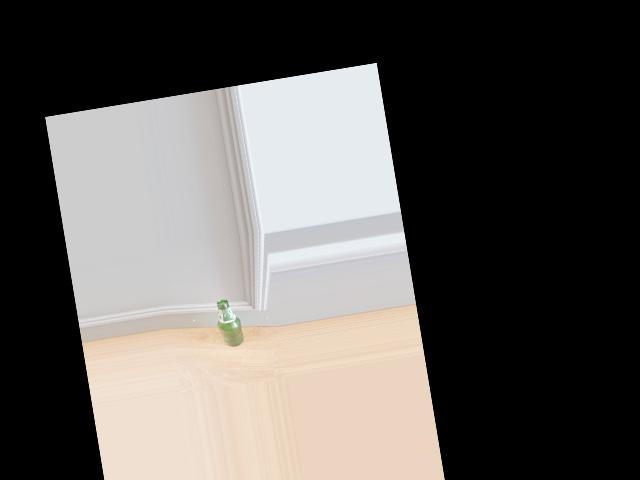beer: (213, 297, 245, 348)
